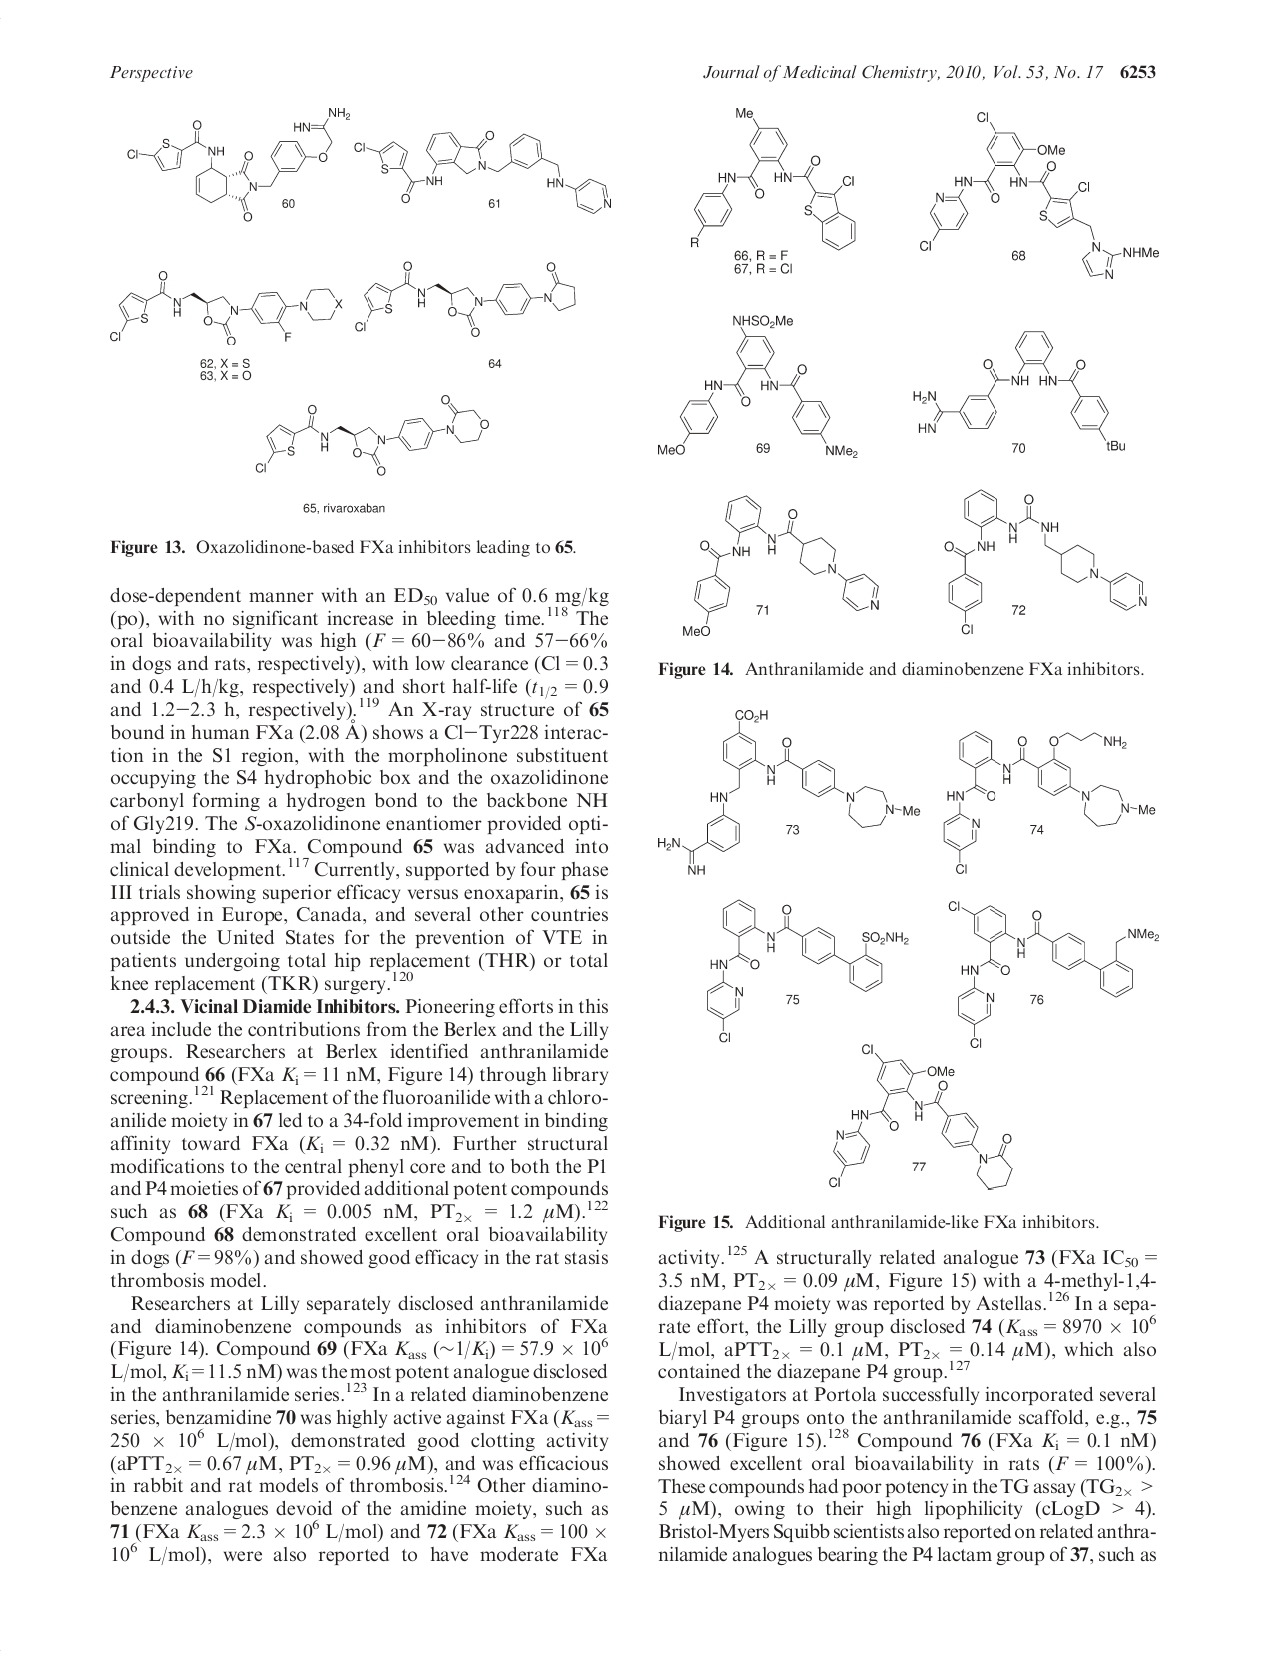exist_molecular: (649, 701, 923, 876), (906, 105, 1170, 285), (940, 898, 1189, 1055), (940, 472, 1156, 636), (944, 722, 1164, 876), (806, 1041, 1023, 1196), (652, 307, 858, 464), (701, 891, 914, 1043), (677, 489, 884, 644), (906, 322, 1133, 461), (122, 100, 354, 223), (684, 102, 859, 255), (352, 126, 620, 219), (251, 388, 501, 479), (354, 250, 582, 344), (104, 265, 342, 348)
